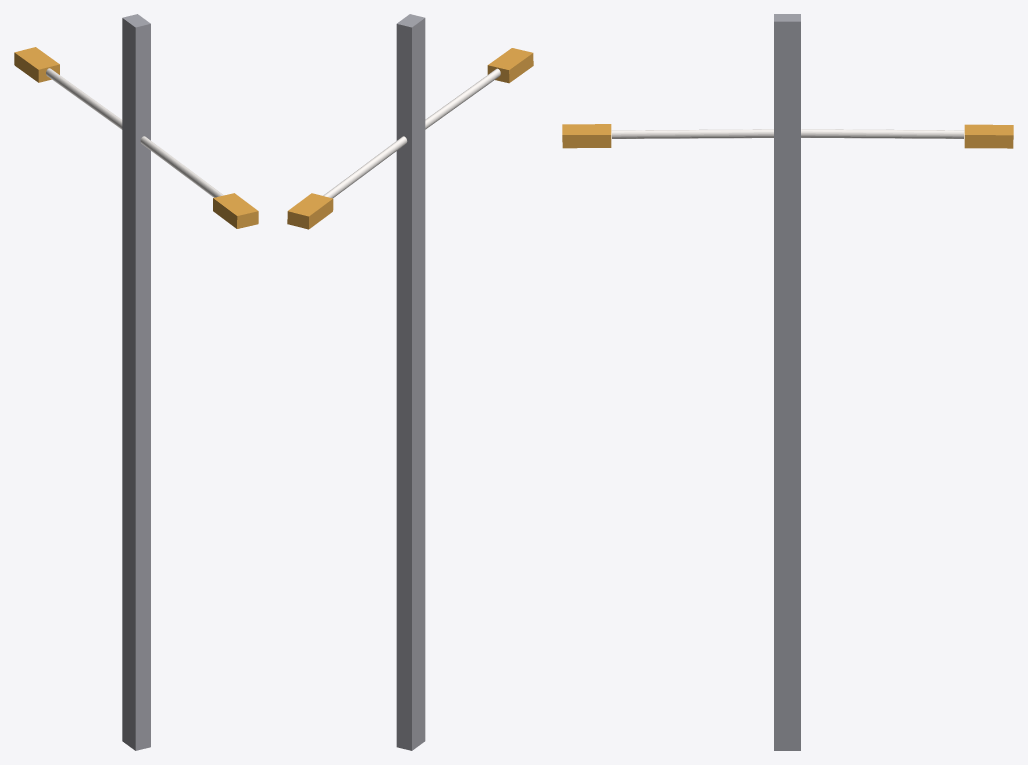
Rendered from Poste 2 Luminaria Y.dae.
3 renders of one model, left to right at view 1: azimuth 30°, elevation 25°; view 2: azimuth 150°, elevation 25°; view 3: azimuth 270°, elevation 25°, orthographic.
Parts seen in each view (by area): view 1: Cube, Cubo.001, Cubo, Cilindro.001, Cilindro; view 2: Cube, Cubo, Cubo.001, Cilindro, Cilindro.001; view 3: Cube, Cilindro, Cilindro.001, Cubo, Cubo.001.
Boxes of the visible parts, x1=… form: Cube: x1=122, y1=14, x2=150, y2=750; Cubo.001: x1=213, y1=193, x2=258, y2=228; Cubo: x1=14, y1=47, x2=59, y2=82; Cilindro.001: x1=140, y1=136, x2=223, y2=197; Cilindro: x1=46, y1=68, x2=122, y2=129; Cube: x1=396, y1=14, x2=425, y2=750; Cubo: x1=287, y1=193, x2=333, y2=229; Cubo.001: x1=487, y1=48, x2=533, y2=83; Cilindro: x1=323, y1=136, x2=407, y2=198; Cilindro.001: x1=425, y1=68, x2=500, y2=129; Cube: x1=774, y1=14, x2=800, y2=750; Cilindro: x1=801, y1=129, x2=964, y2=138; Cilindro.001: x1=611, y1=129, x2=773, y2=138; Cubo: x1=964, y1=124, x2=1013, y2=148; Cubo.001: x1=562, y1=124, x2=611, y2=148.
Size of the model in its own units: 0.5824 by 10.04 by 17.91.
